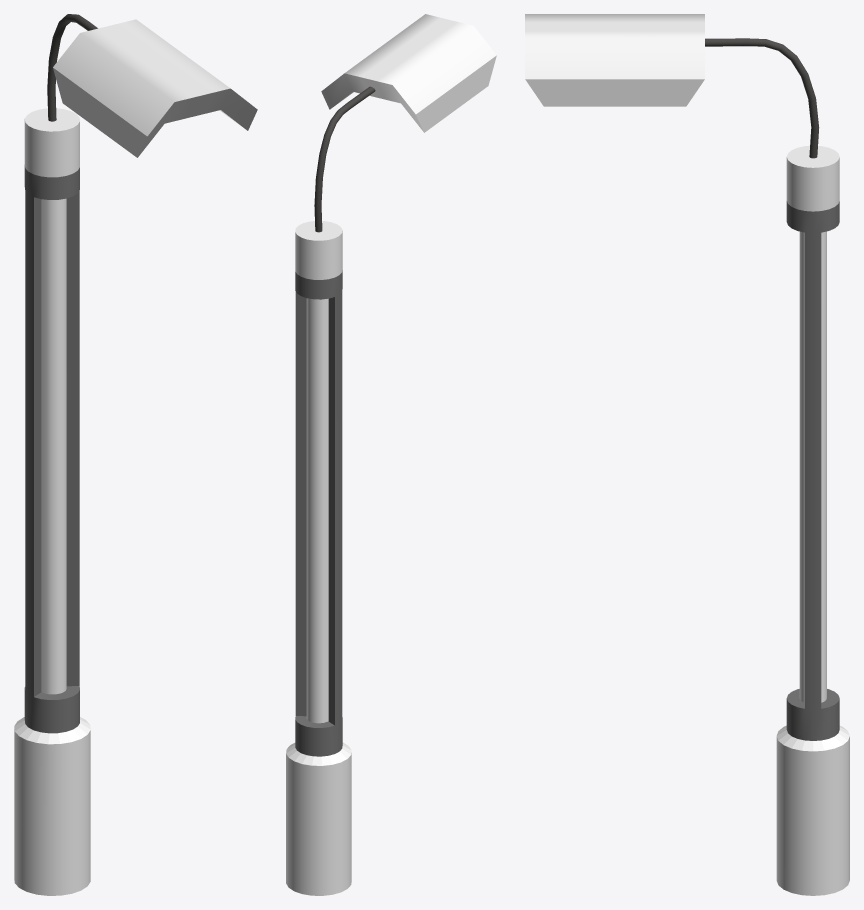
The model's file is LampPost_Asset.fbx.
The picture shows the model from 3 angles, left to right: view 1: azimuth 30°, elevation 25°; view 2: azimuth 150°, elevation 25°; view 3: azimuth 270°, elevation 25°; orthographic projection. The views are drawn at different scales.
Visible parts, largest first — view 1: LampPost_Asset; view 2: LampPost_Asset; view 3: LampPost_Asset.
Part boxes in pixels (bbox=[...]): LampPost_Asset: bbox=[14, 14, 257, 895]; LampPost_Asset: bbox=[286, 14, 496, 895]; LampPost_Asset: bbox=[525, 14, 849, 895].
Bounding box in the file's own units: 2.6 × 20.17 × 6.96.
Materials: 1 (1 with a texture image).
